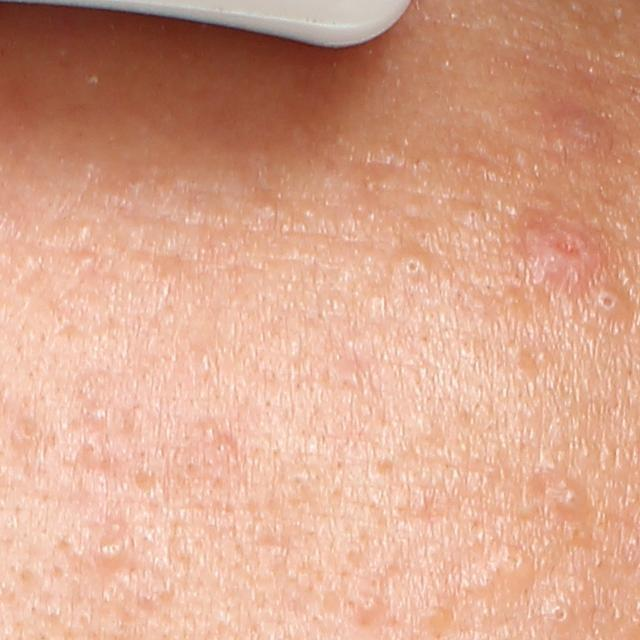comedo: (496, 539, 537, 589), (395, 245, 431, 279), (562, 478, 590, 518), (543, 598, 571, 632), (94, 536, 125, 565), (82, 401, 112, 430), (353, 591, 382, 620), (593, 288, 624, 315), (199, 420, 223, 449), (68, 220, 92, 247), (532, 343, 555, 366)
papule: (514, 196, 596, 289), (561, 109, 610, 147)
